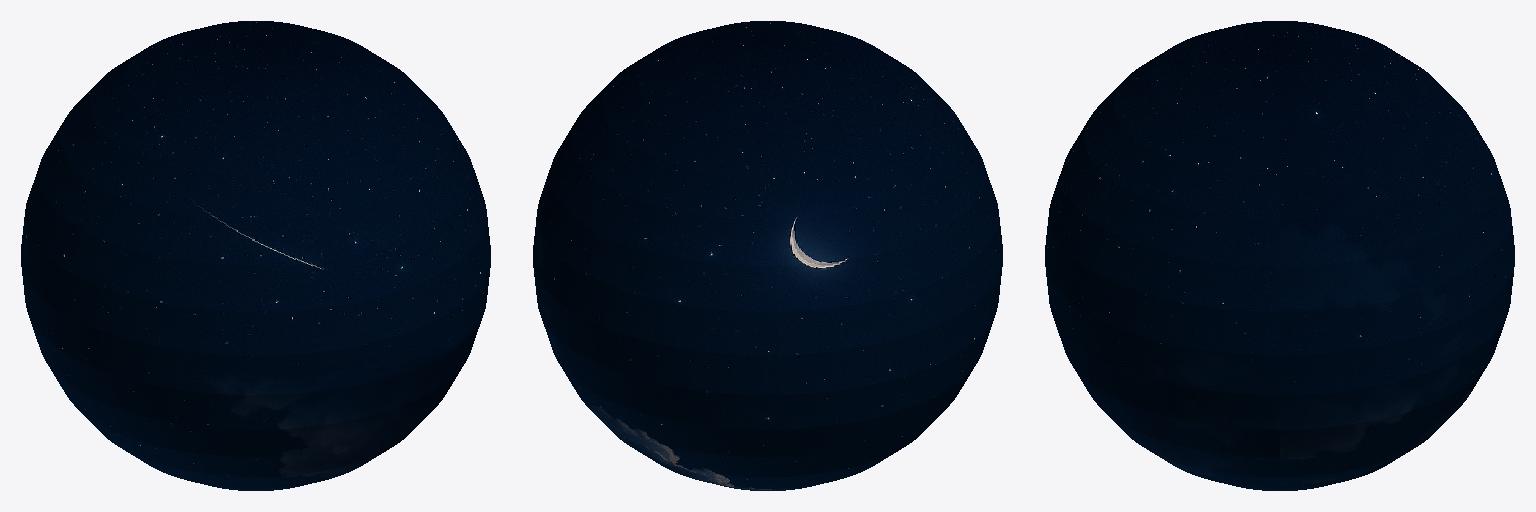
3 renders of one model, left to right at view 1: azimuth 30°, elevation 25°; view 2: azimuth 150°, elevation 25°; view 3: azimuth 270°, elevation 25°, orthographic.
Visible parts, largest first — view 1: Sphere; view 2: Sphere; view 3: Sphere.
Part boxes in pixels (bbox=[...]): Sphere: bbox=[21, 21, 490, 490]; Sphere: bbox=[533, 21, 1002, 490]; Sphere: bbox=[1045, 21, 1514, 490].
Size of the model in its own units: 495 by 495 by 495.
1 materials, 1 textured.